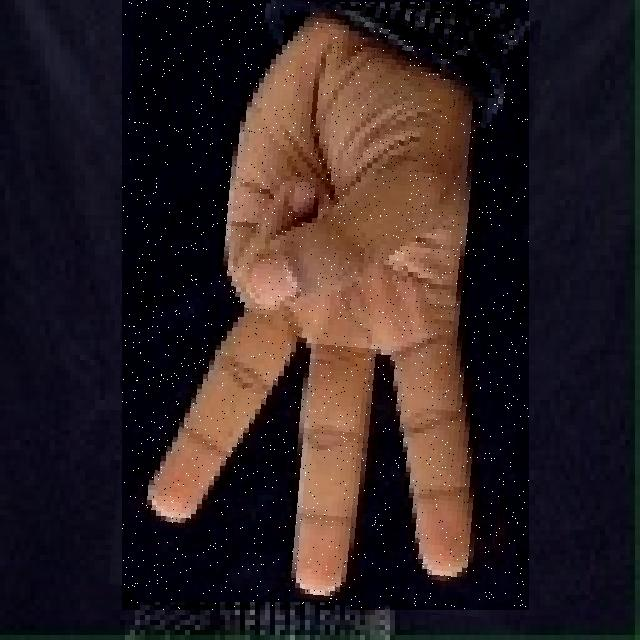Please: (122, 0, 529, 610)
